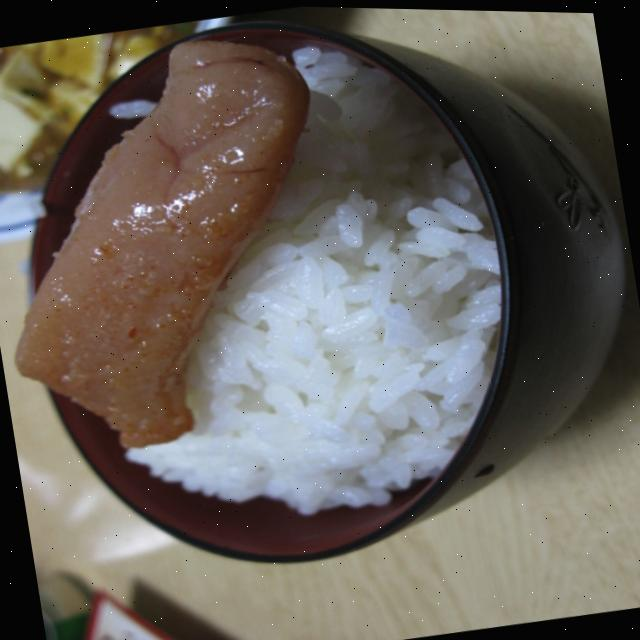米饭主食: (0, 0, 640, 619)
